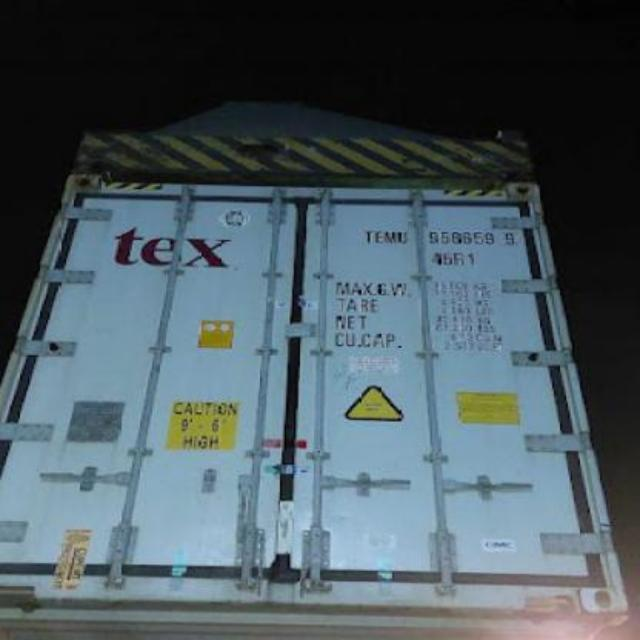5: (436, 225, 449, 248), (474, 223, 484, 250)
6: (462, 222, 474, 248)
8: (450, 223, 462, 249)
9: (504, 225, 520, 251), (484, 226, 496, 250), (428, 224, 438, 246)
E: (374, 225, 386, 251)
M: (386, 225, 396, 248)
T: (362, 219, 374, 249)
U: (396, 225, 409, 248)
